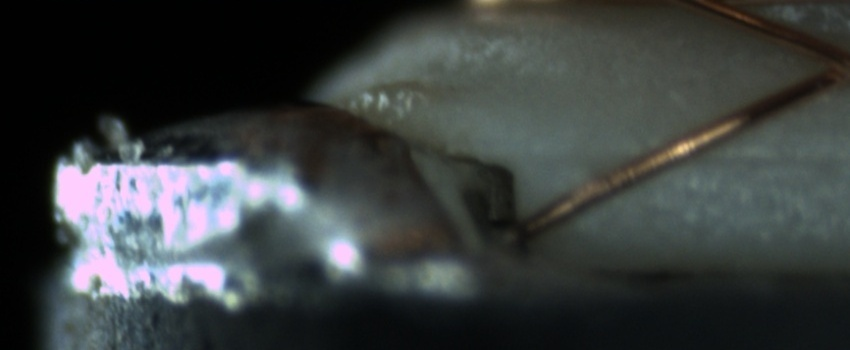CL: (801, 31, 849, 95)
DL: (547, 126, 850, 189)
